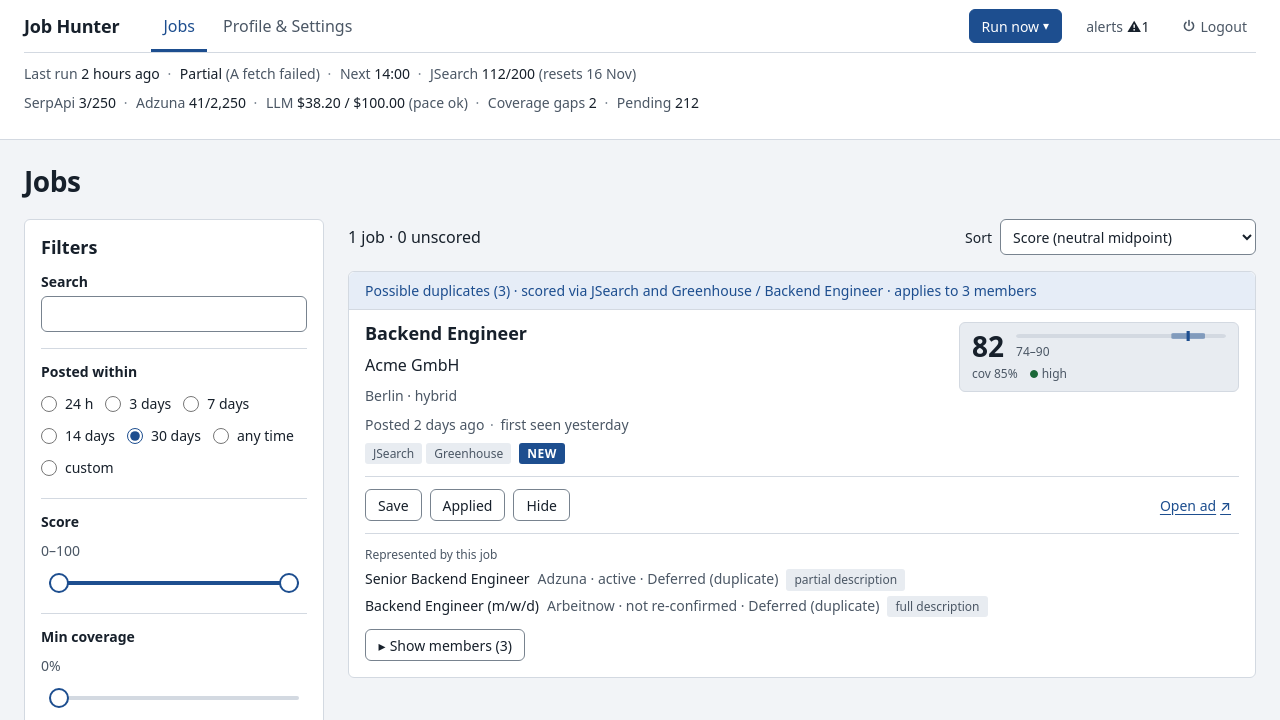
Test case: GroupCard › a group gone meanwhile says so and reads the list again
Step 1. Click the button "▸ Show members (3)" → [445, 645], box x1=365 y1=629 x2=525 y2=661
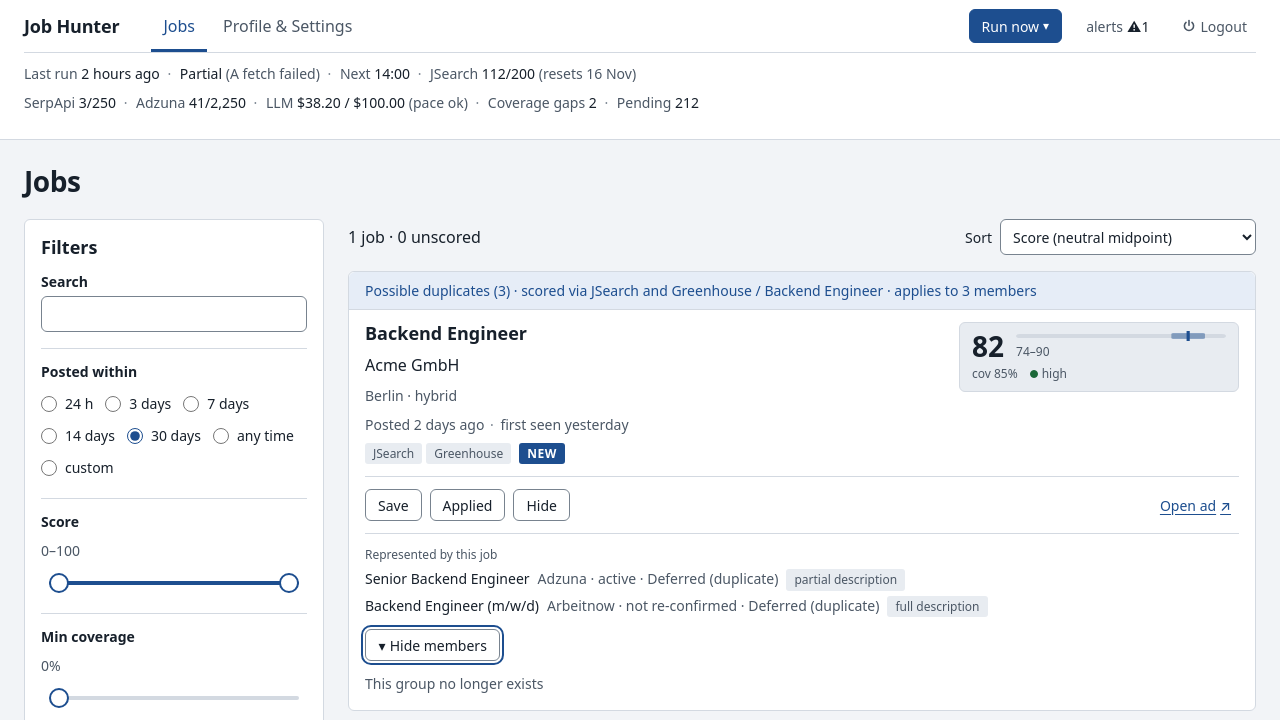
Expected: the text "This group no longer exists" is shown, x1=365 y1=674 x2=543 y2=693
